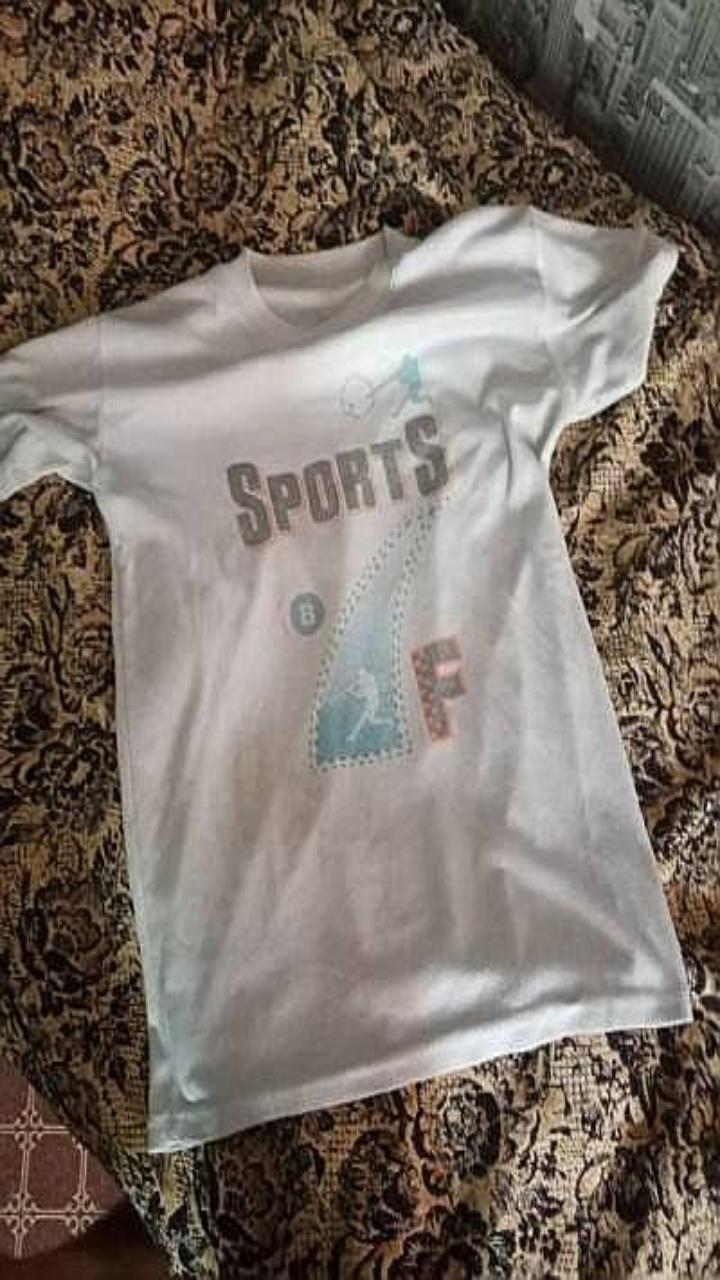T-Shirt: (0, 206, 690, 1151)
